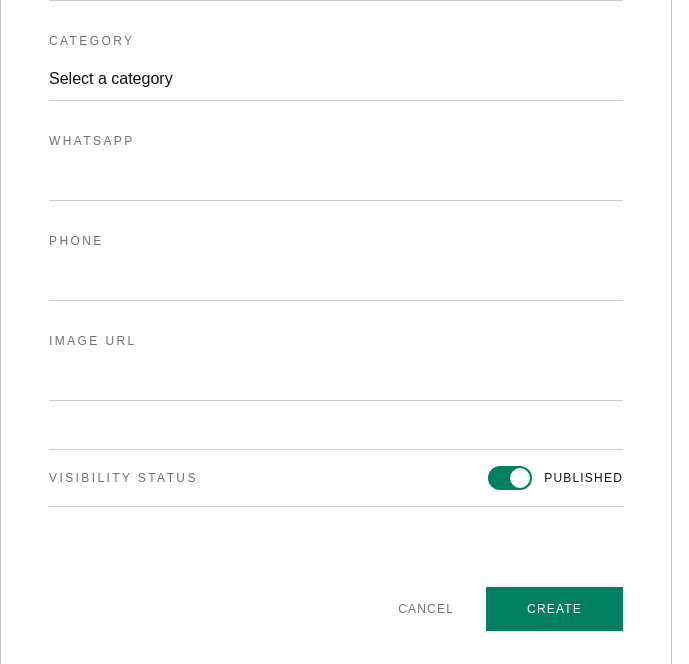
Scenario: NewProductPage › shows validation error when name is empty
(page scrolled)
Click the button "Create" at [554, 609], box [486,587,623,631]
(page scrolled)
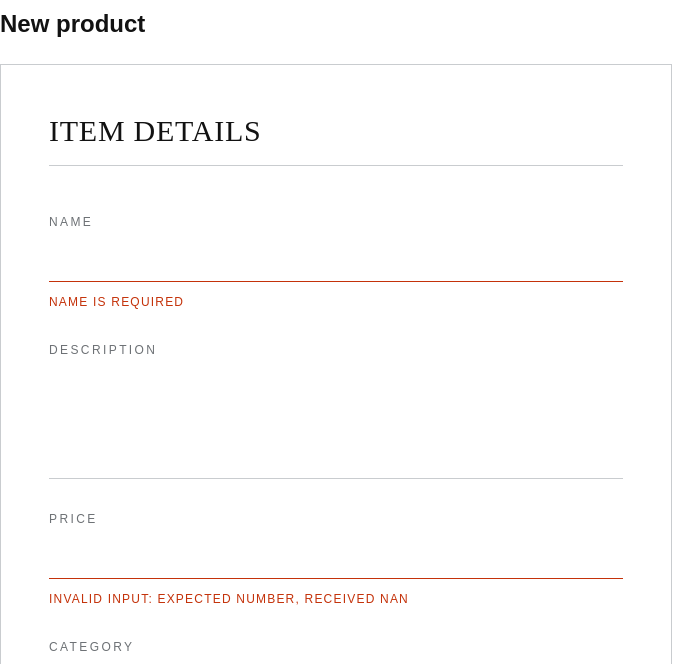
Expected: the text "Name is required" is shown, [49,295,184,309]
